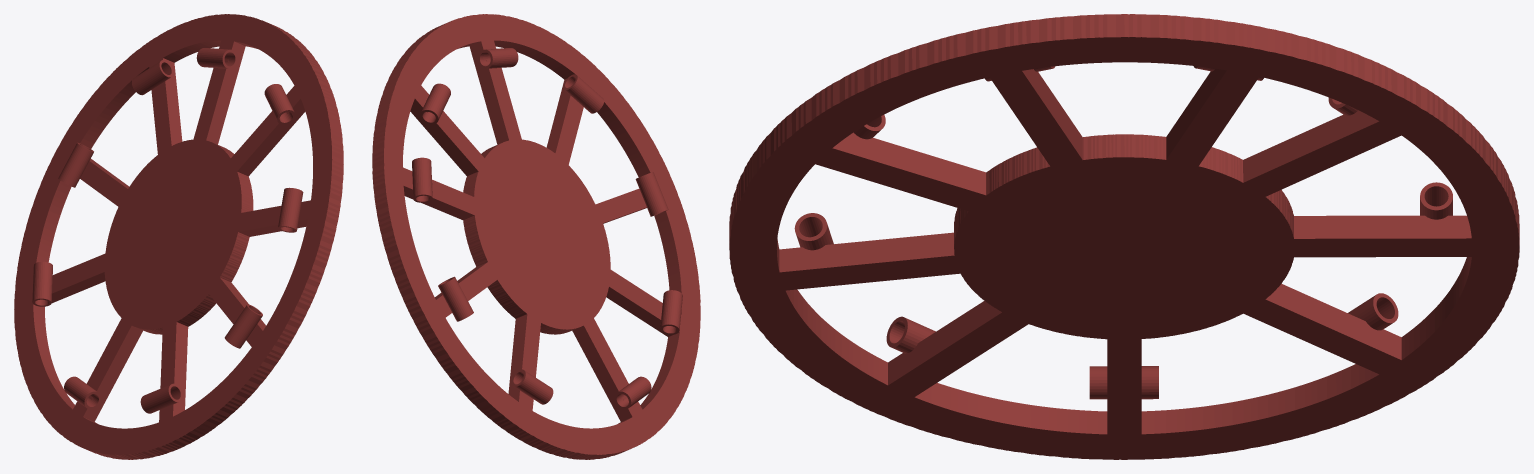
The model's file is float_R_arm.obj.
The picture shows the model from 3 angles, left to right: view 1: azimuth 30°, elevation 25°; view 2: azimuth 150°, elevation 25°; view 3: azimuth 270°, elevation 25°; orthographic projection. The views are drawn at different scales.
Parts seen in each view (by area): view 1: 円柱.003; view 2: 円柱.003; view 3: 円柱.003.
Boxes of the visible parts, box(x1,y1,x2,y2) form: 円柱.003: box(14, 14, 343, 459); 円柱.003: box(372, 14, 700, 459); 円柱.003: box(729, 14, 1519, 459).
Bounding box in the file's own units: 1.3 × 1.97 × 2.28.
Materials: 1 (1 with a texture image).
